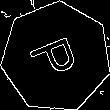P_E: (26, 30, 86, 84)
